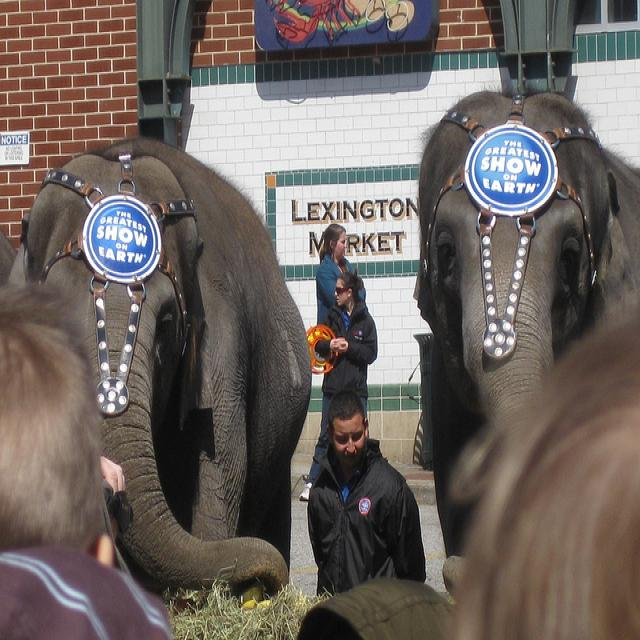Elephant: (6, 136, 312, 604), (414, 88, 639, 559)
person: (0, 282, 173, 638), (306, 390, 426, 598), (299, 272, 378, 501), (315, 223, 366, 325)
